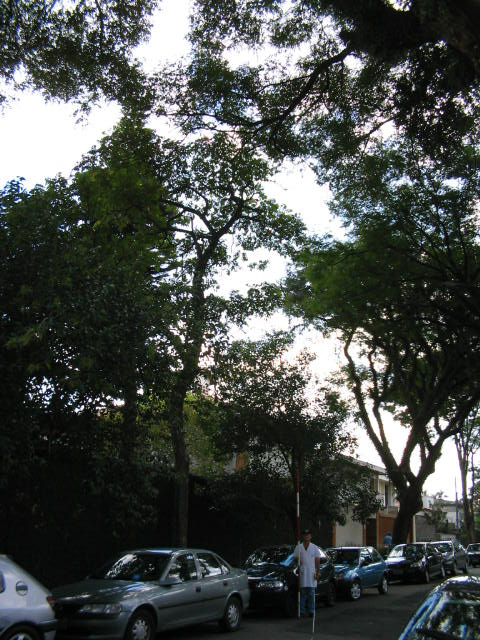crown: (283, 219, 480, 419)
stem: (383, 506, 428, 563)
stick: (283, 468, 308, 620)
tree: (279, 219, 480, 564)
